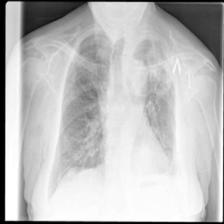tuberculosis: (45, 23, 180, 205)
